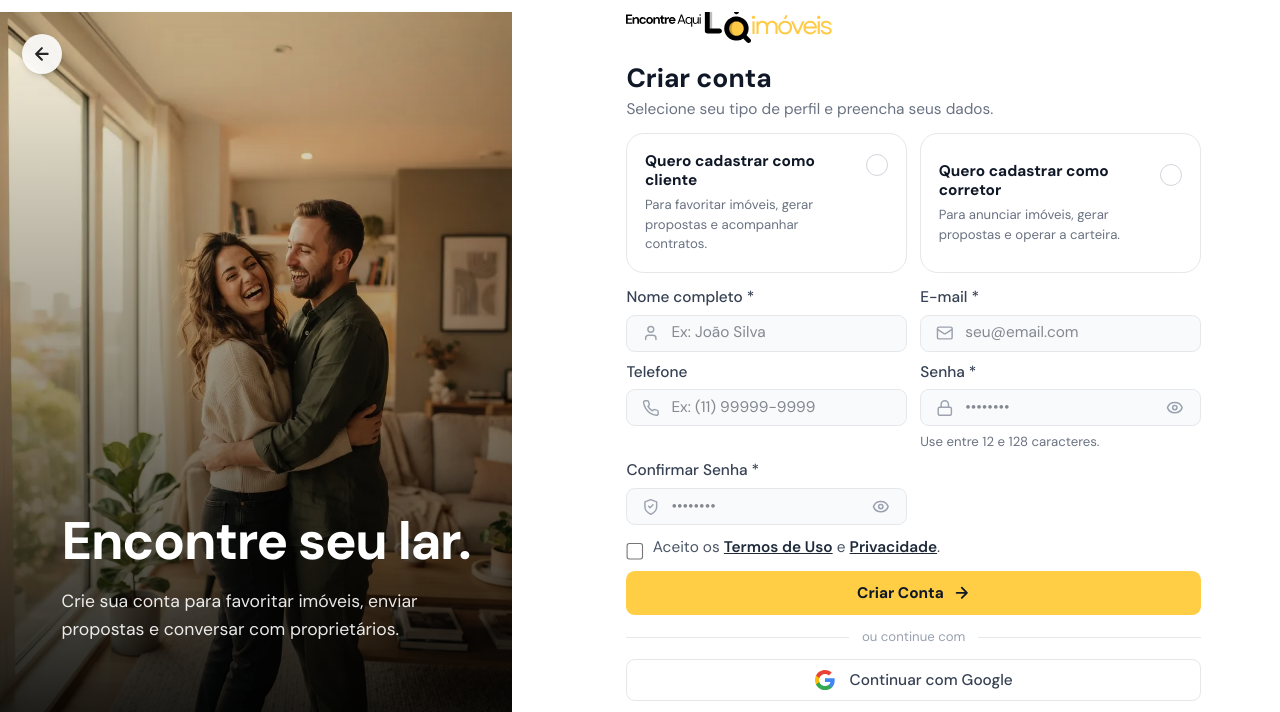
signup flow › mapeia draft já existente para opções de continuar e descartar quando 409 retorna
Click the button "Quero cadastrar como cliente": [767, 203] box [626,133,907,273]
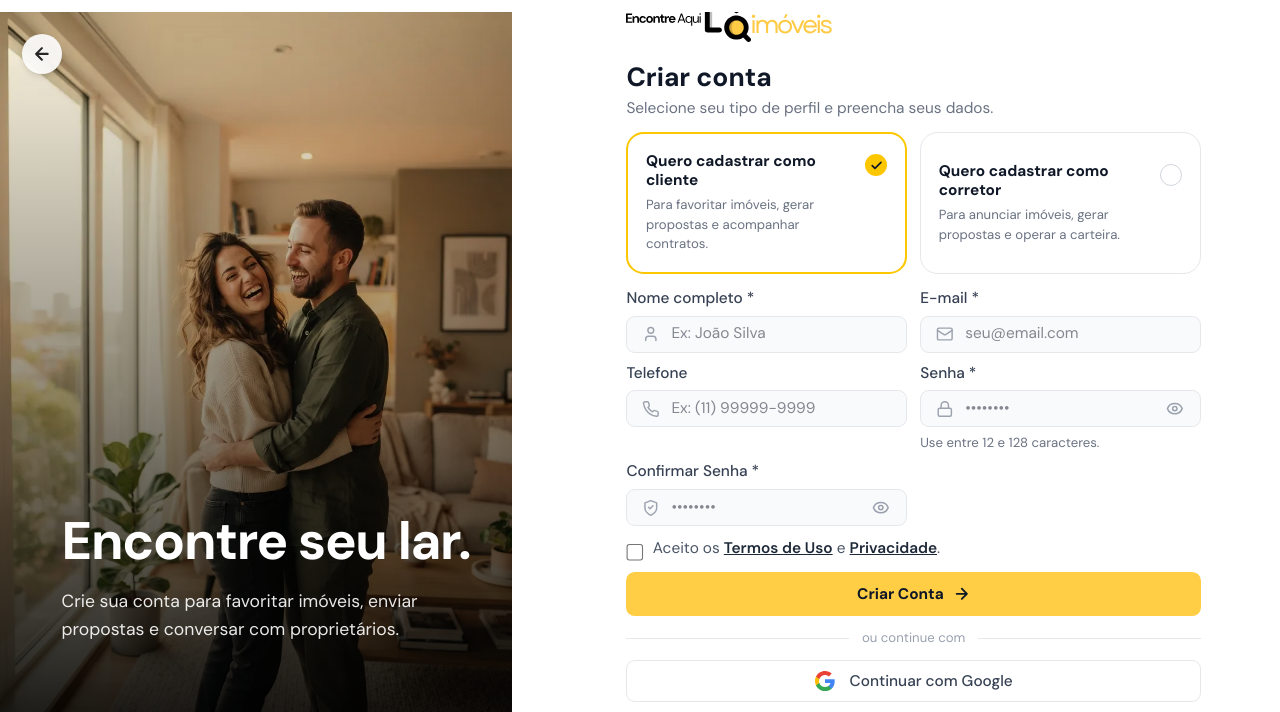
In the field labelled "Nome completo *": [767, 334] box [626,316,907,353], type "Cliente Conflito"
In the field labelled "E-mail *": [1060, 334] box [920,316,1201,353], type "conflito2@example.com"
In the password field labelled "Senha *": [1060, 409] box [920,390,1201,427], type "SenhaMuitoSegura123"
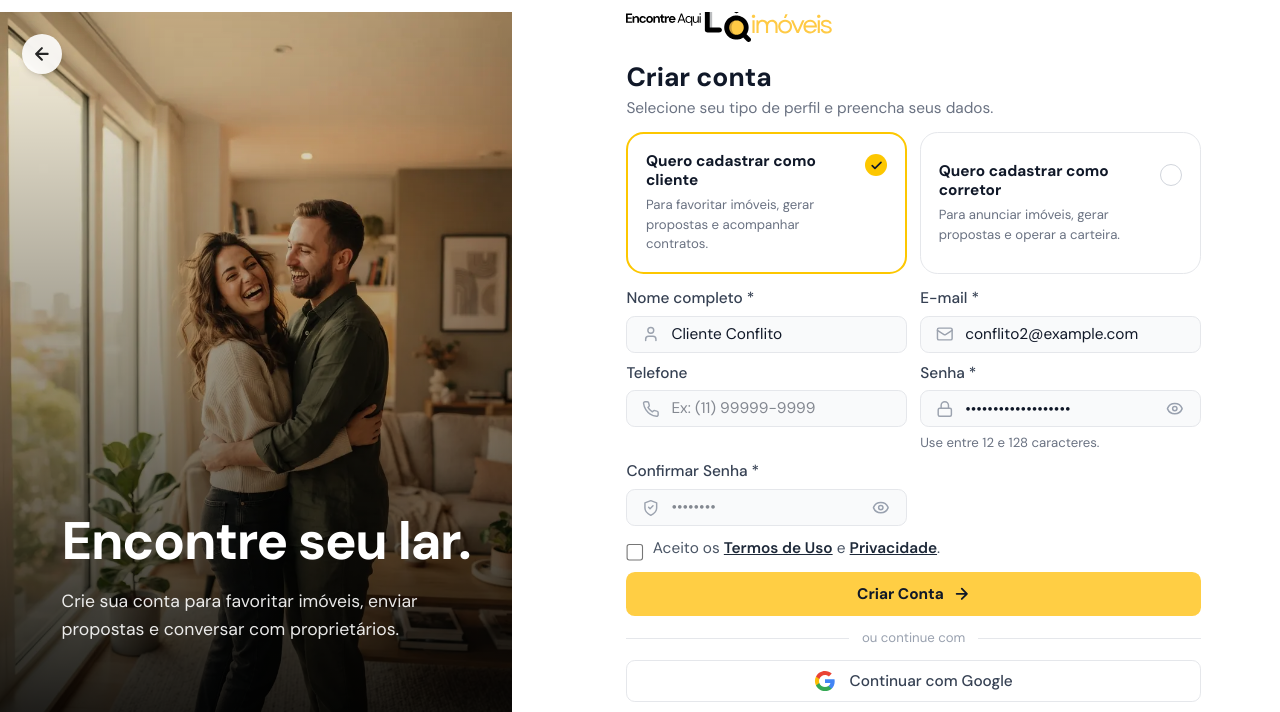
In the password field labelled "Confirmar Senha *": [767, 508] box [626,489,907,526], type "SenhaMuitoSegura123"
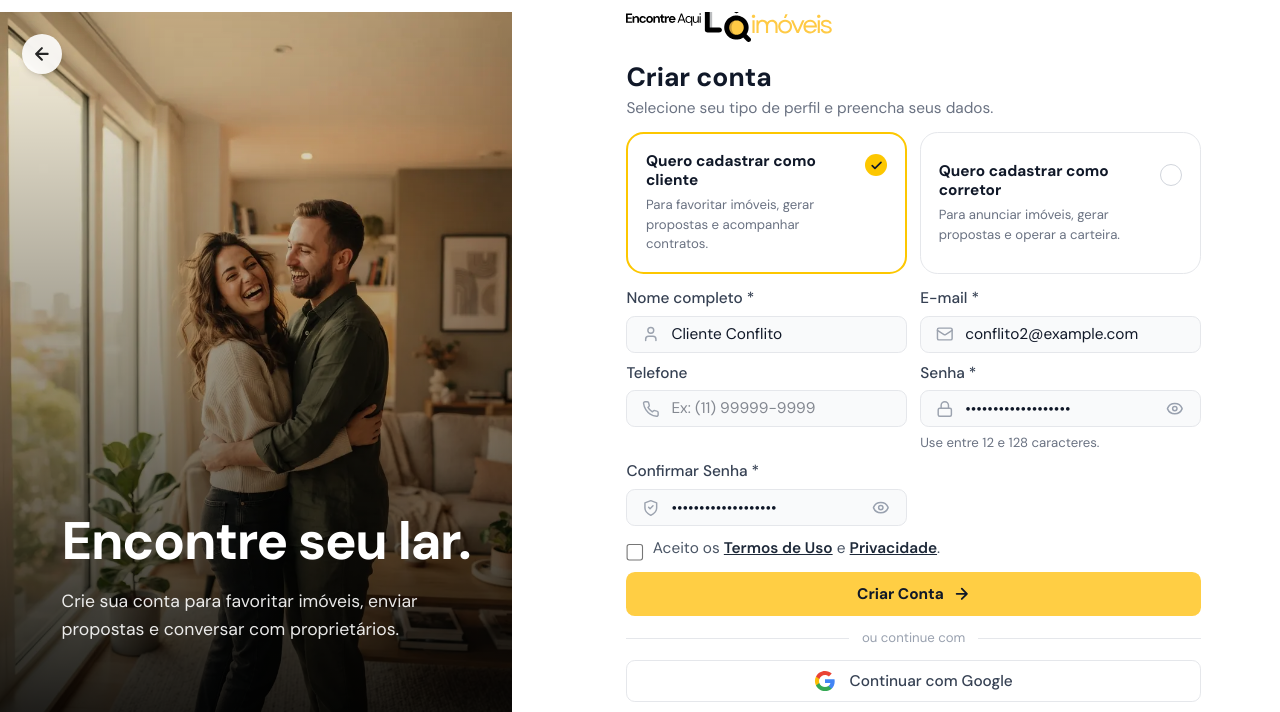
In the field labelled "Telefone": [767, 409] box [626,390,907,427], type "(62) 97777-7777"
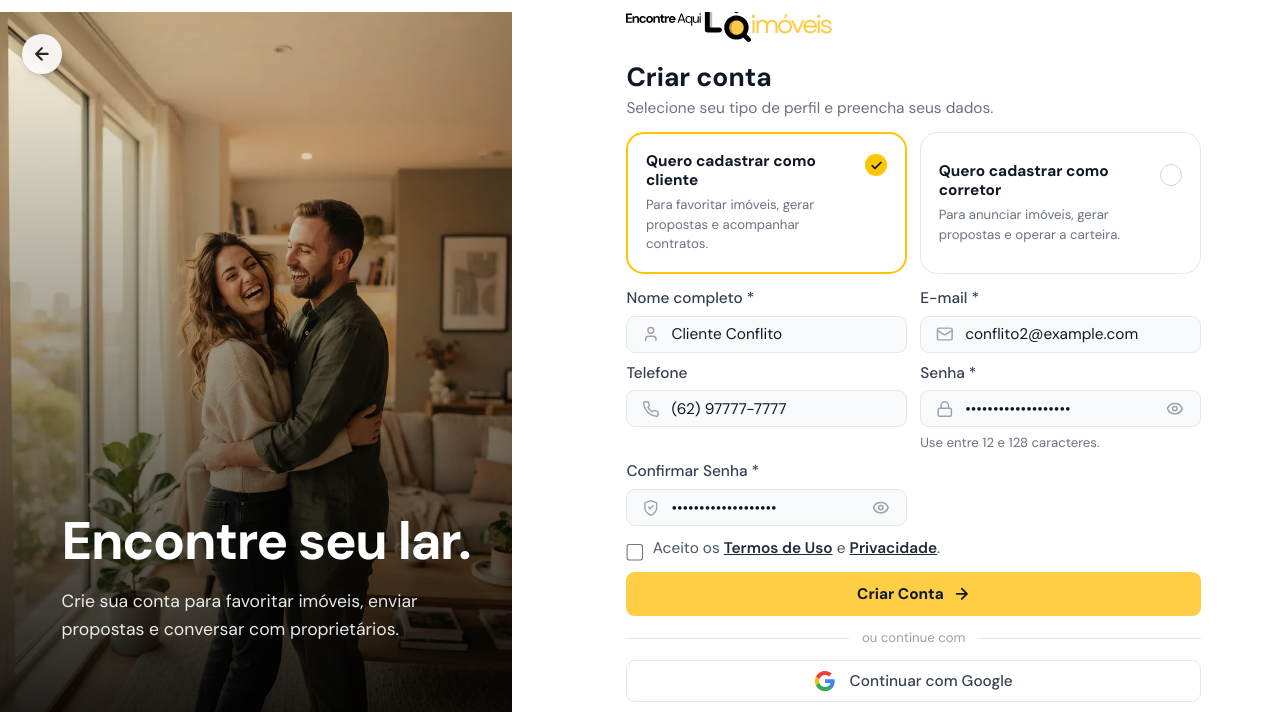
Click the checkbox: [635, 552] box [626,544,644,561]
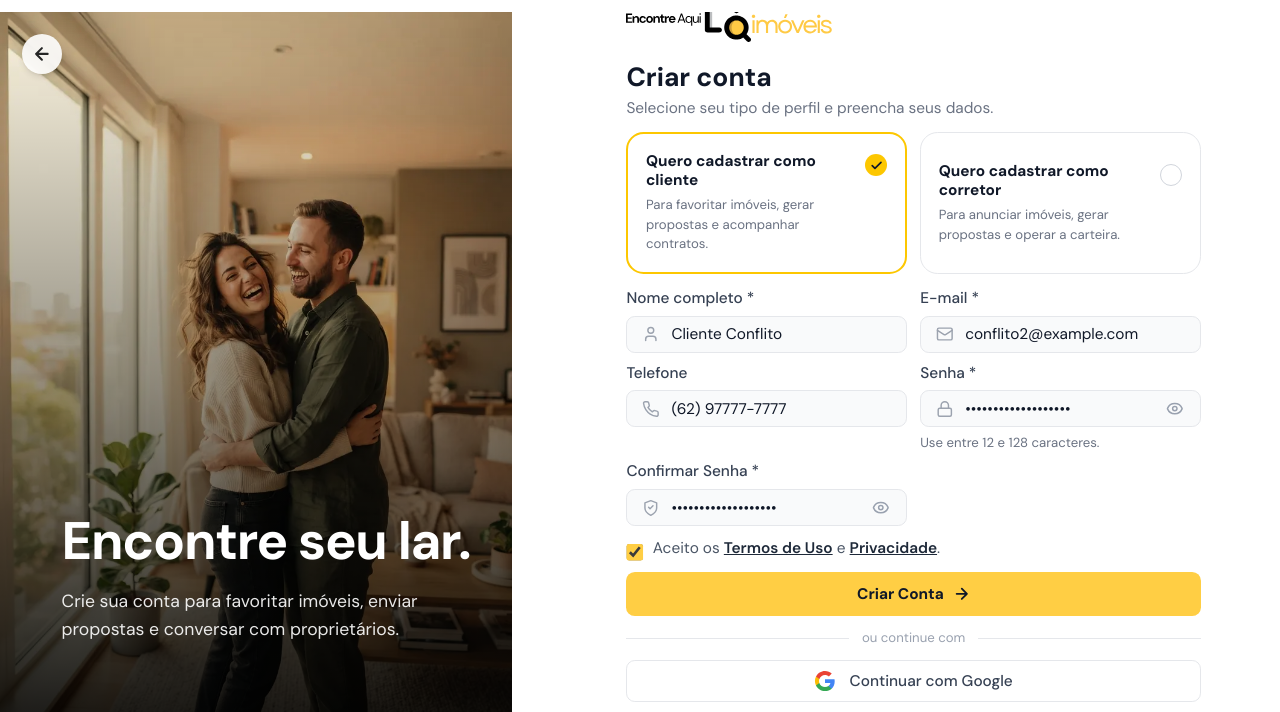
Click the button "Criar Conta": [914, 594] box [626,572,1201,616]
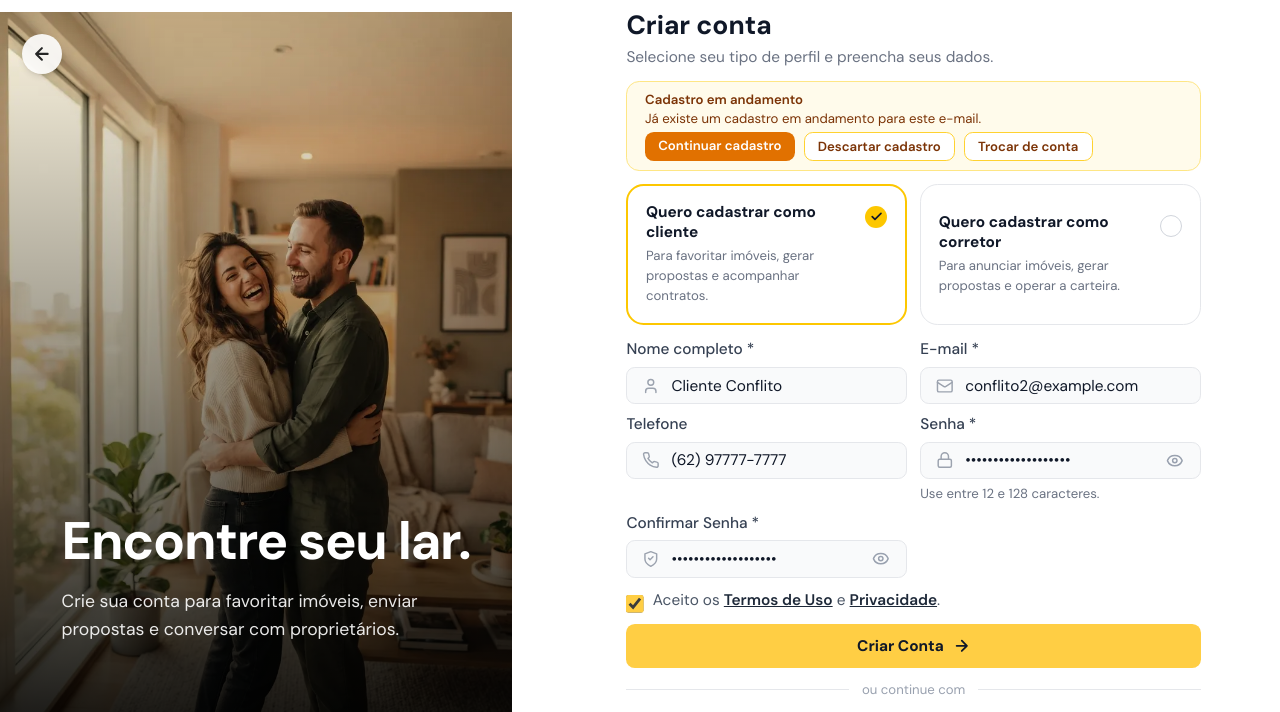
Check: the text "Já existe um cadastro em andamento para este e-mail." is shown, box [645,110,981,128]
Check: the button "Continuar cadastro" is shown, box [645,132,795,161]
Check: the button "Descartar cadastro" is shown, box [804,132,955,161]
